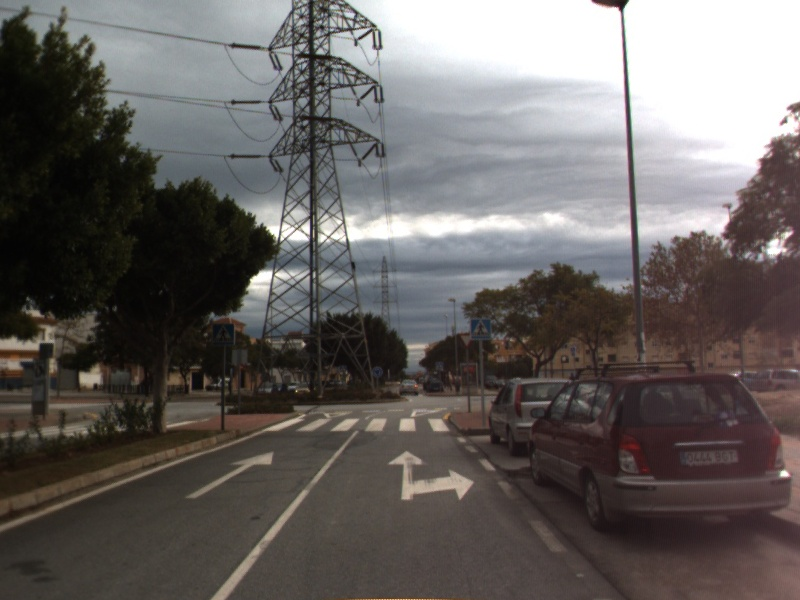STRAIGHT: (183, 450, 275, 500)
STRAIGHT_RIGHT: (385, 448, 476, 503)
